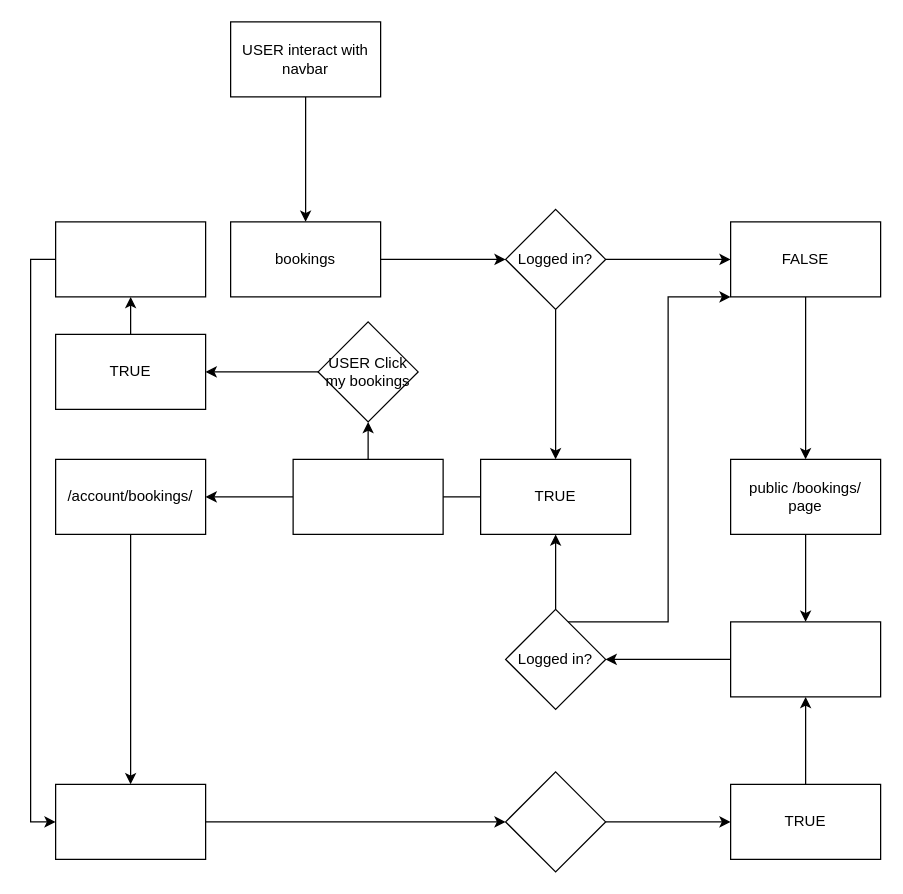
The diagram is 903 pixels wide and 894 high, and some of its shapes have lost their labels. The centre of each missing label's shape, as x and y in pixels:
/account/: the point at 367,496
BUTTON 'My Bookings': the point at 130,259
CREATE booking: the point at 805,659
Create new booking?: the point at 555,821
SHOW USER bookings: the point at 130,821
